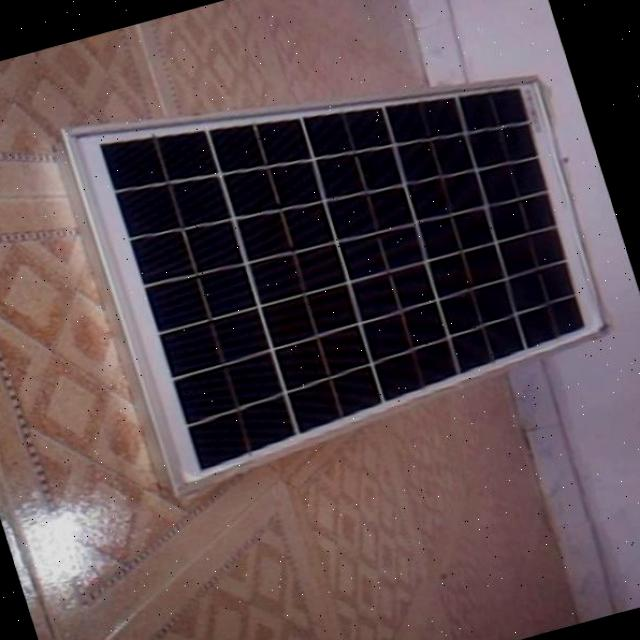Normal Solar Panel: (50, 6, 640, 500)
